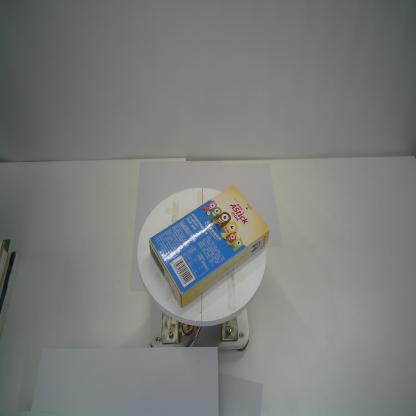Dessert: (148, 183, 271, 310)
